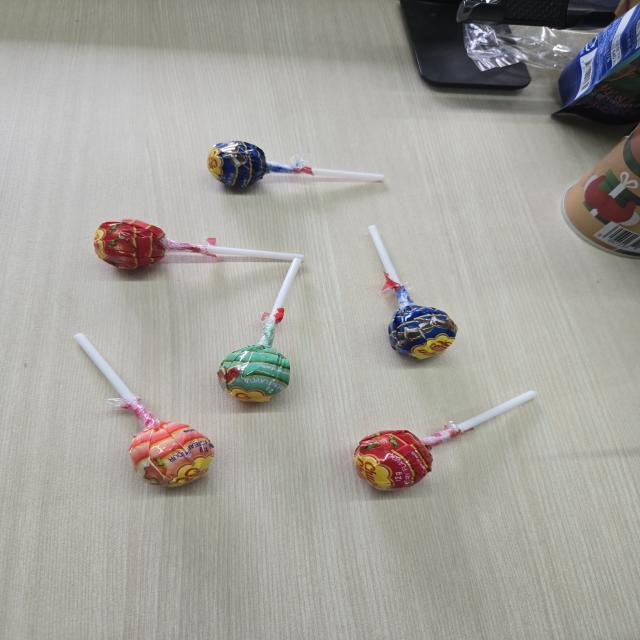lollipop: (70, 326, 216, 494), (351, 384, 540, 499), (363, 223, 462, 365), (216, 258, 305, 412), (91, 214, 306, 274), (204, 135, 390, 194)
